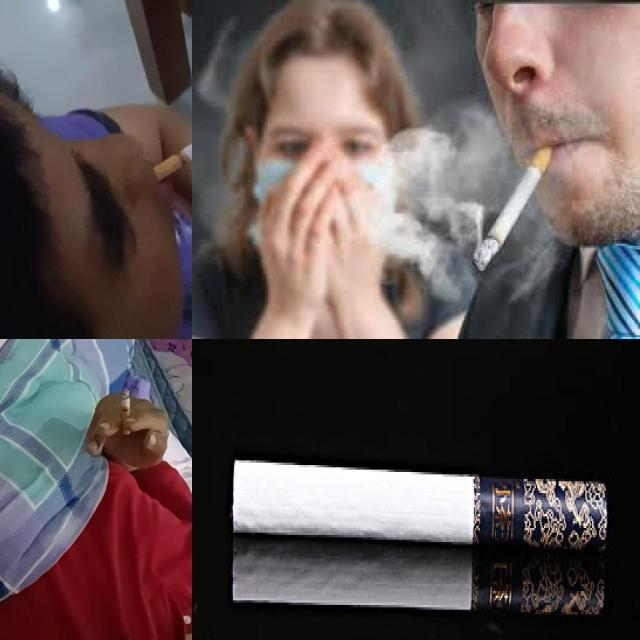smoking: (232, 458, 608, 548), (232, 538, 606, 619), (472, 138, 556, 272), (152, 96, 192, 184), (121, 386, 130, 436)
